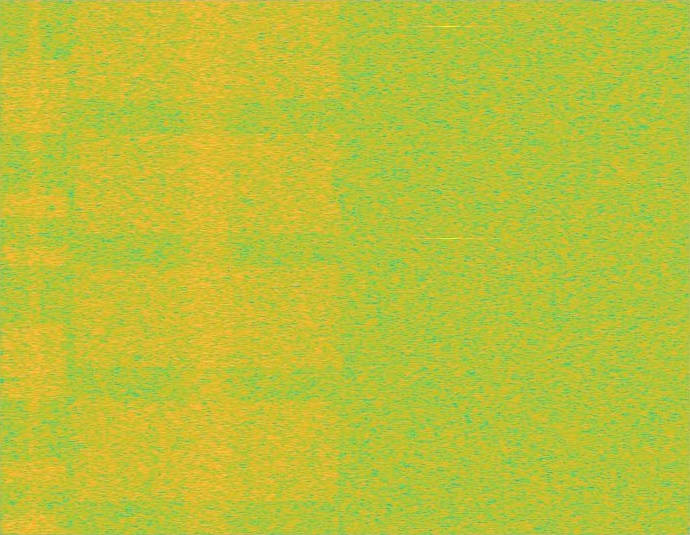5G: (69, 0, 345, 534)
DSSS: (176, 0, 238, 534), (27, 0, 42, 534)
LTE: (0, 0, 69, 534)
Radar: (442, 0, 456, 534)
